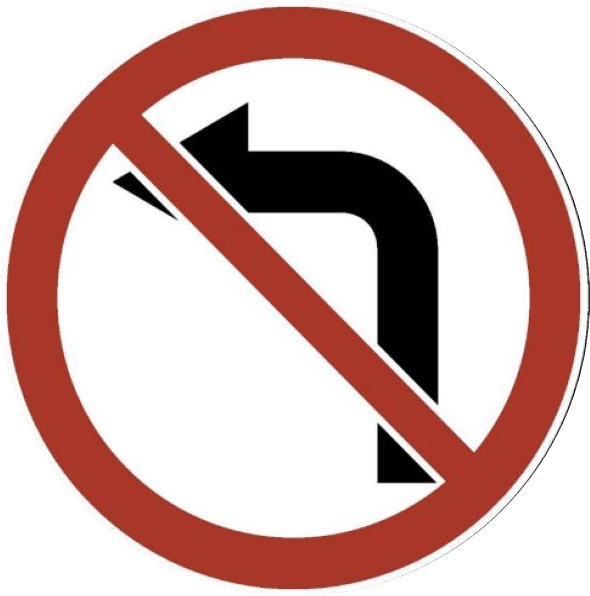no_turn_left: (18, 10, 566, 569)
